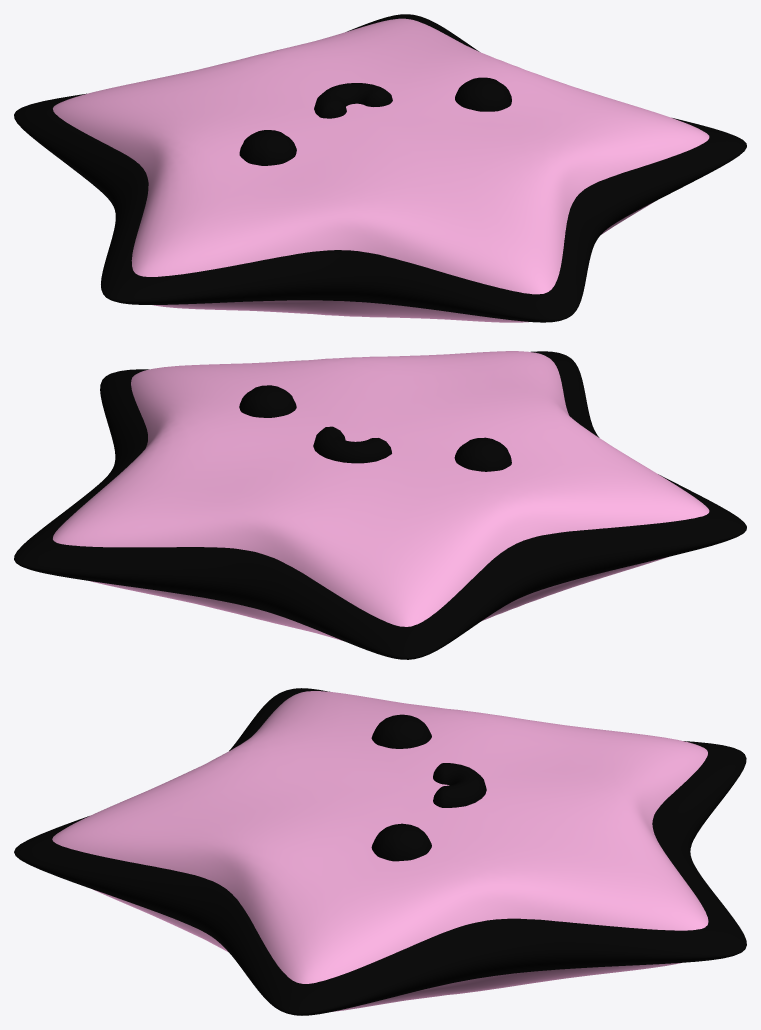
The model's file is lucy.fbx.
3 views of the same model, one above another, from view 1: azimuth 30°, elevation 25°; view 2: azimuth 150°, elevation 25°; view 3: azimuth 270°, elevation 25° (orthographic). The views are drawn at different scales.
Visible parts, largest first — view 1: Cylinder.003, Cylinder.005, Cylinder.004, BézierCurve.001; view 2: Cylinder.003, Cylinder.005, Cylinder.004, BézierCurve.001; view 3: Cylinder.003, Cylinder.005, Cylinder.004, BézierCurve.001.
Part boxes in pixels (x1,y1,x2,y2): Cylinder.003: (53,18,709,322); Cylinder.005: (14,14,746,322); Cylinder.004: (239,77,511,165); BézierCurve.001: (314,83,392,118); Cylinder.003: (53,351,709,641); Cylinder.005: (14,351,746,659); Cylinder.004: (239,385,511,471); BézierCurve.001: (313,426,391,463); Cylinder.003: (52,691,708,1011); Cylinder.005: (14,688,746,1015); Cylinder.004: (371,714,431,861); BézierCurve.001: (433,763,486,807).
Bounding box in the file's own units: 1.83 × 0.3764 × 1.75.
